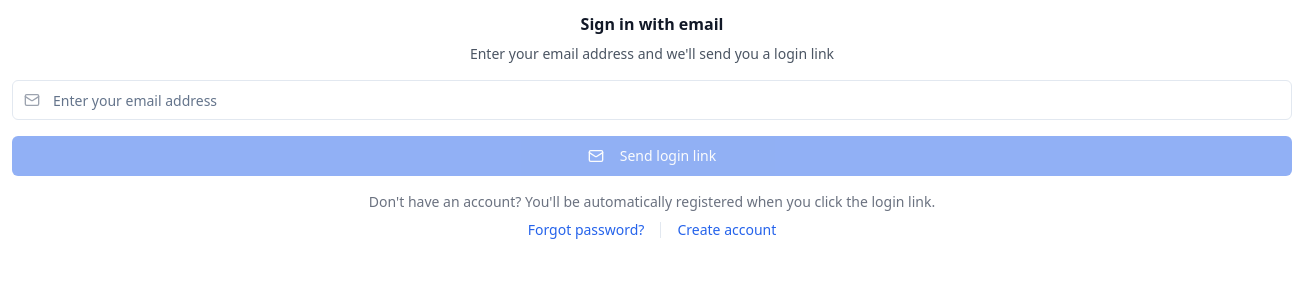
Scenario: EmailLoginForm › validates email input
The width and height of the screenshot is (1304, 284).
// Test invalid email
Type "invalid-email" into the field with placeholder "Enter your email address" at (652, 100), box [12,80,1292,120]
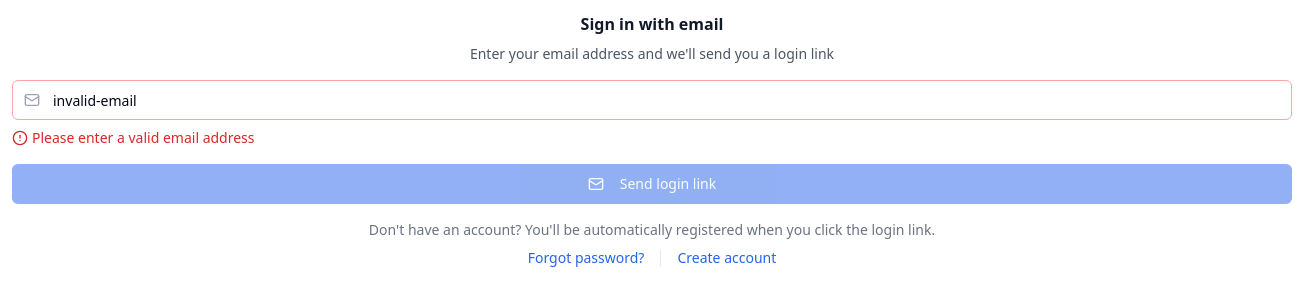
Expected: the button "Send login link" is disabled, [12,164,1292,204]
Expected: the text "Please enter a valid email address" is shown, [12,128,254,147]
// Test valid email
Replace the text in the field with placeholder "Enter your email address" with "test@example.com" at (652, 100), box [12,80,1292,120]
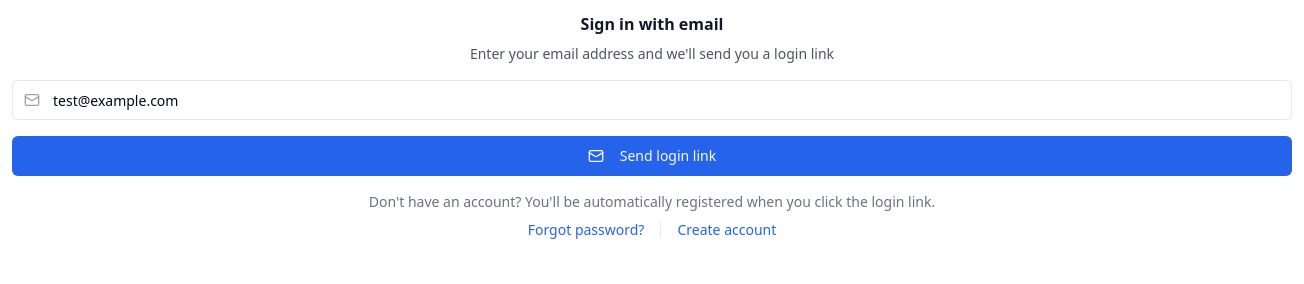
Expected: the text "Please enter a valid email address" is gone
Expected: the button "Send login link" is enabled, [12,136,1292,176]
